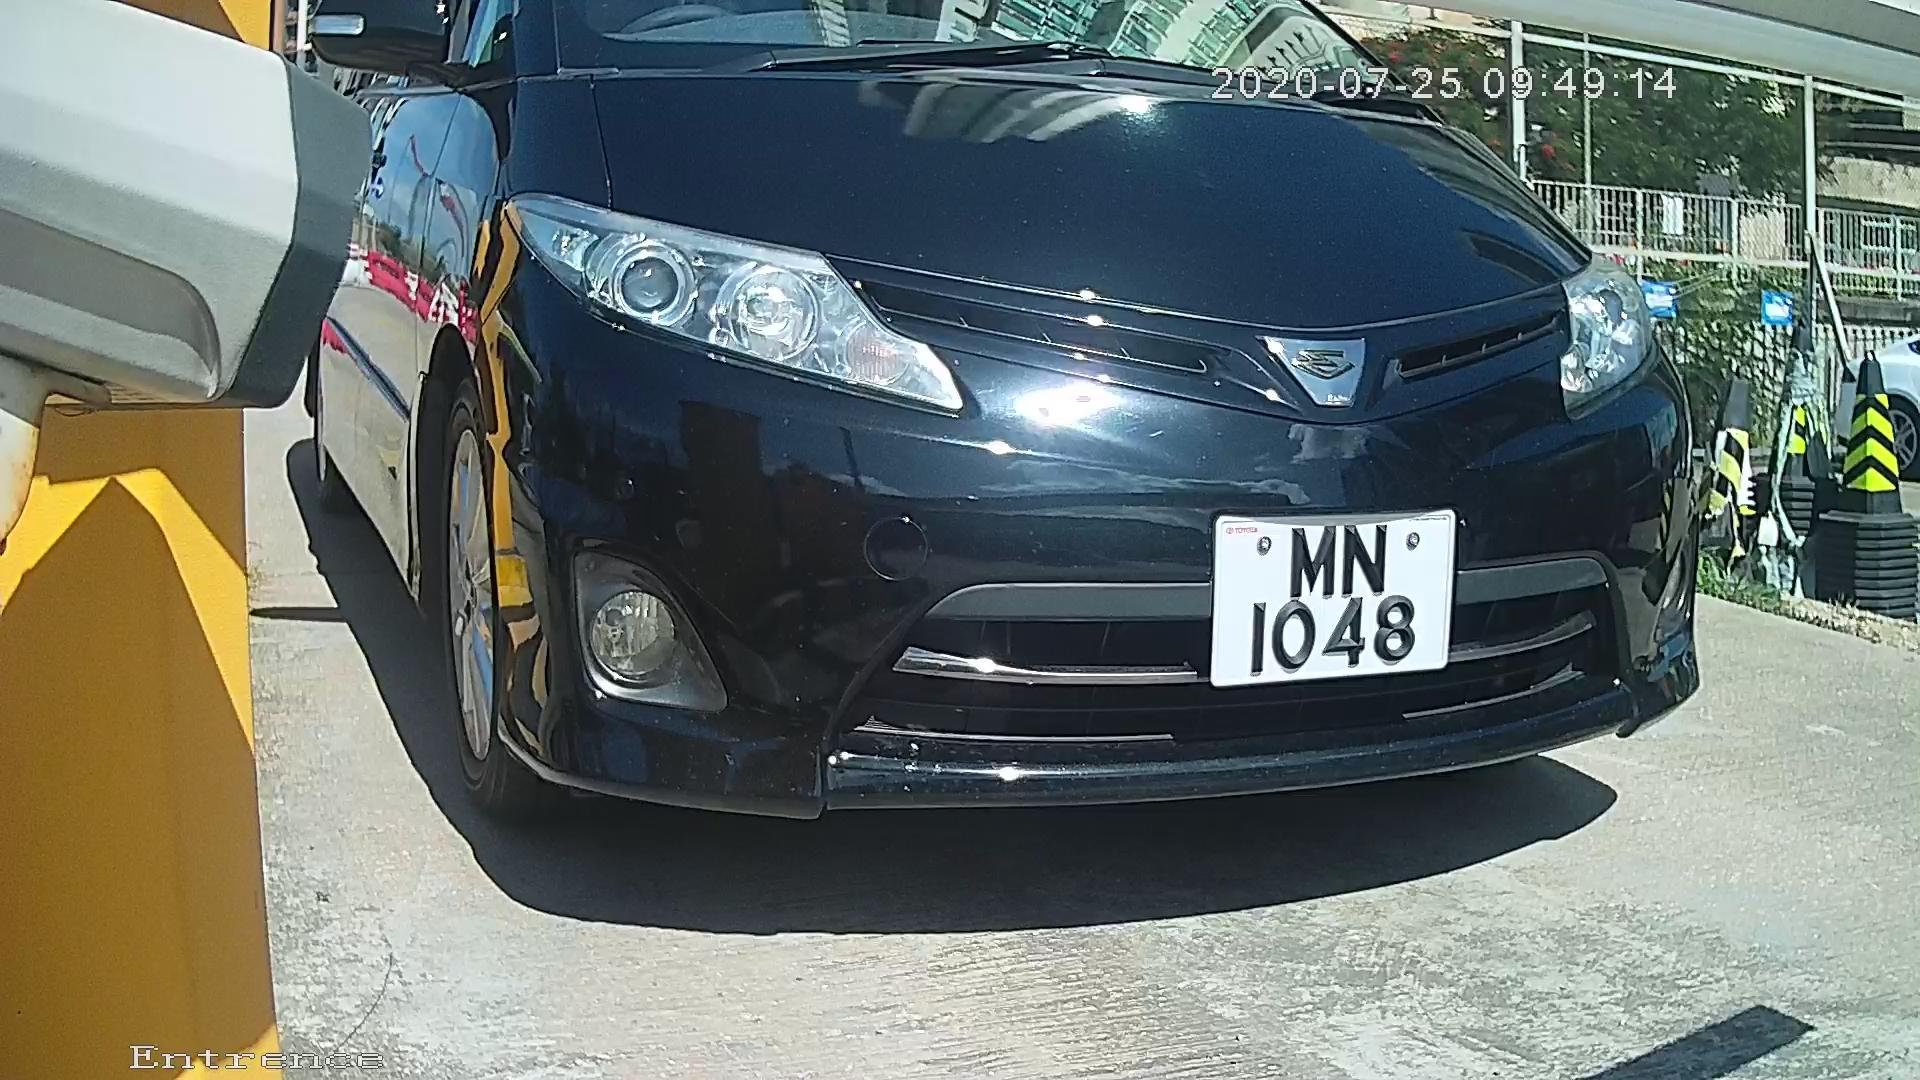License Plate: (1192, 483, 1466, 714)
